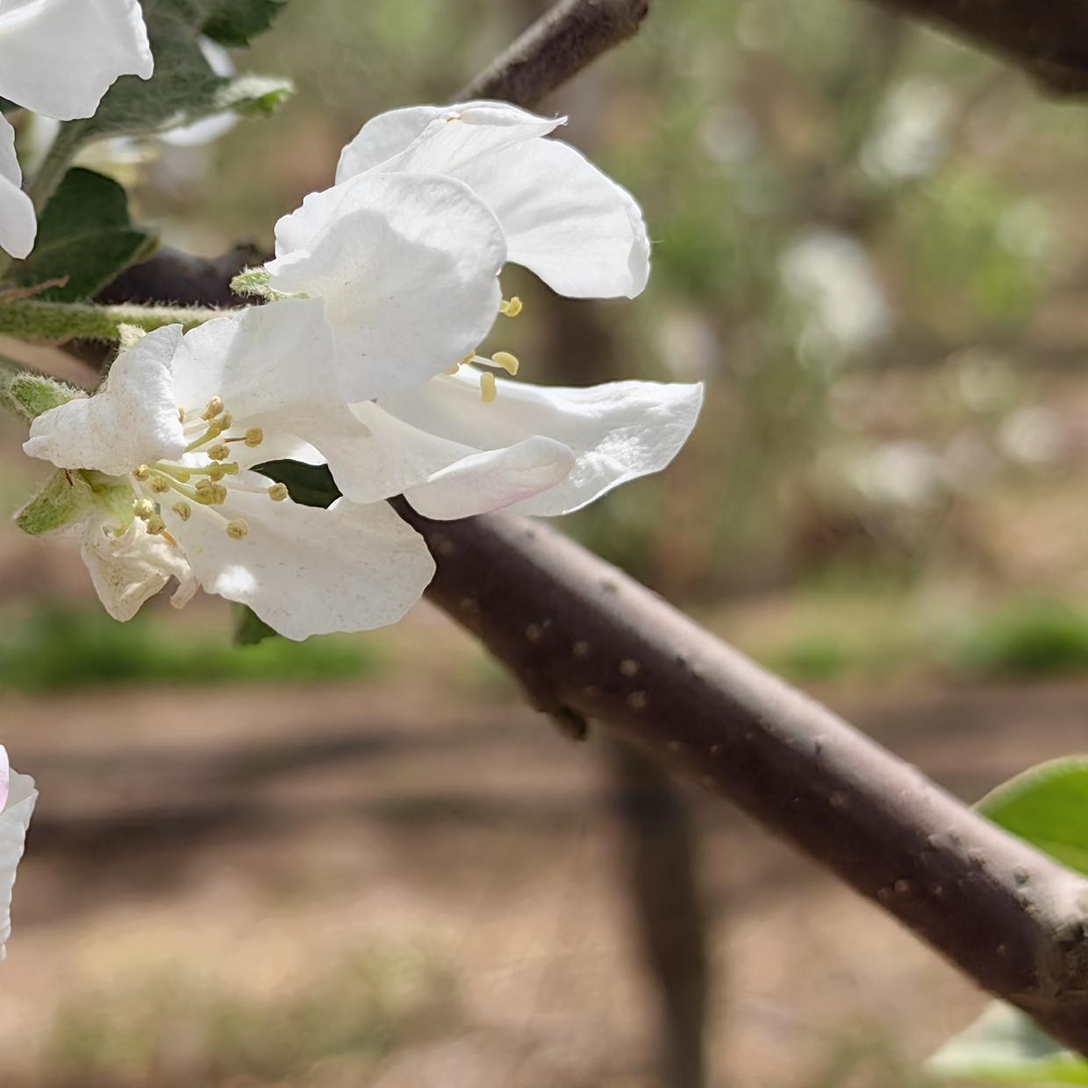apple_flower: (0, 0, 701, 952)
